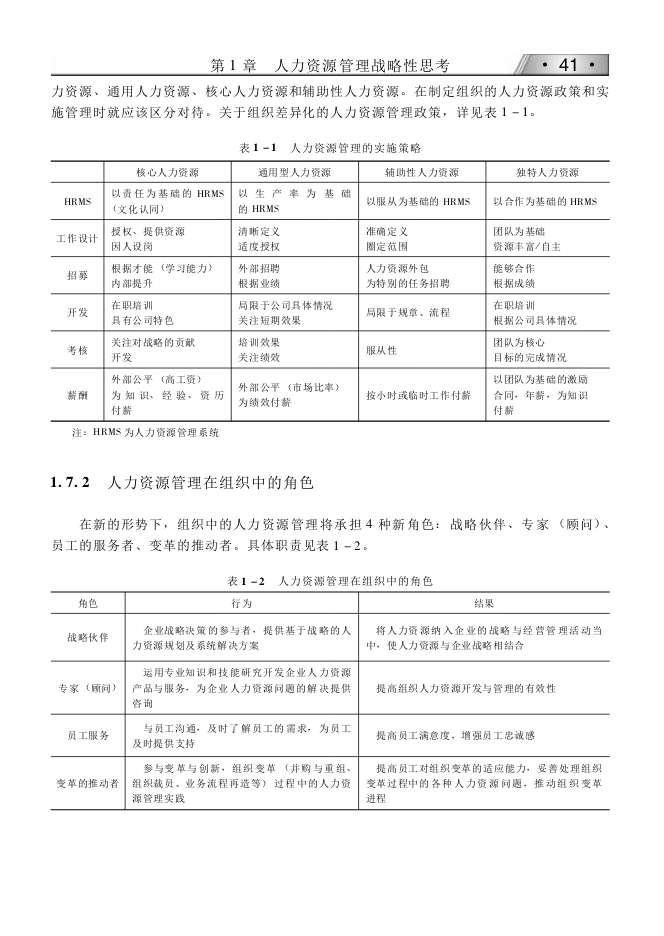table: (50, 160, 609, 421), (50, 591, 610, 810)
